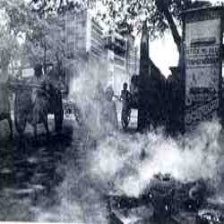smoke: (95, 129, 223, 182)
